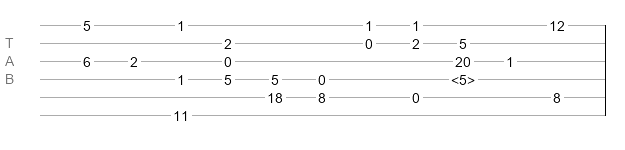0: (224, 54, 232, 64), (318, 72, 326, 82), (365, 36, 373, 46), (412, 90, 420, 100)
1: (177, 72, 185, 82), (177, 18, 185, 28), (365, 18, 373, 28), (412, 18, 420, 28), (506, 54, 514, 64)
11: (173, 108, 189, 118)
12: (549, 18, 565, 28)
18: (267, 90, 283, 100)
2: (130, 54, 138, 64), (224, 36, 232, 46), (412, 36, 420, 46)
20: (455, 54, 471, 64)
5: (83, 18, 91, 28), (224, 72, 232, 82), (271, 72, 279, 82), (459, 36, 467, 46)
6: (83, 54, 91, 64)
8: (318, 90, 326, 100), (553, 90, 561, 100)
harmonic: (451, 72, 475, 82)
